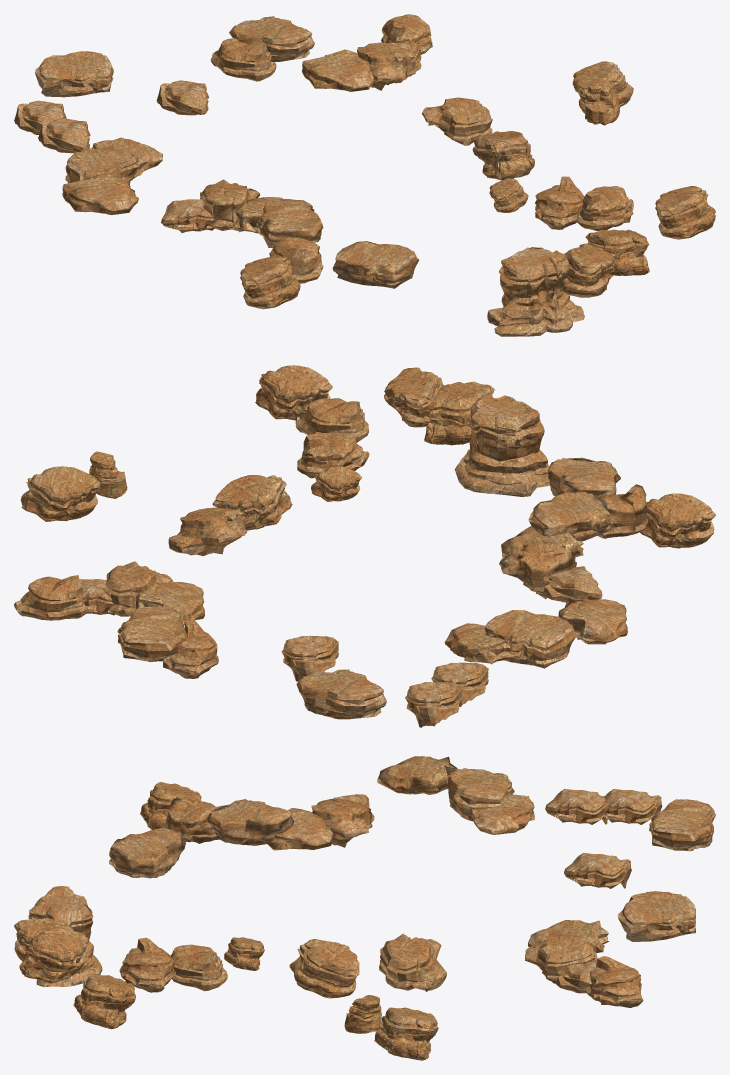
File: shan1.fbx
3 views of the same model, one above another, from view 1: azimuth 30°, elevation 25°; view 2: azimuth 150°, elevation 25°; view 3: azimuth 270°, elevation 25° (orthographic). The views are drawn at different scales.
Parts seen in each view (by area): view 1: shamo:_71, polySurface1, shamo:obj_____100, shamo:_52, shamo:_76, shamo:obj_____105, shamo:obj_____118, shamo:_48, shamo:obj_____84, shamo:obj_____106, qunshan1:obj_____107, shamo:_56 (+18 smaller); view 2: shamo:_71, shamo:obj_____95, shamo:obj_____100, shamo:_40, shamo:_76, shamo:obj_____105, shamo:obj_____84, shamo:_52, shamo:_48, shamo:_56, qunshan1:obj_____107, shamo:obj_____103 (+19 smaller); view 3: shamo:_48, shamo:obj_____105, qunshan1:obj_____107, shamo:obj_____84, polySurface1, shamo:obj_____100, shamo:_63, shamo:_71, shamo:_40, shamo:_52, shamo:obj_____95, shamo:obj_____118 (+17 smaller).
Boxes of the visible parts, box(x1,y1,x2,y2) form: shamo:_71: box(487, 247, 584, 336); polySurface1: box(332, 241, 418, 288); shamo:obj_____100: box(35, 51, 113, 97); shamo:_52: box(655, 186, 715, 239); shamo:_76: box(240, 255, 300, 309); shamo:obj_____105: box(229, 16, 314, 61); shamo:obj_____118: box(62, 172, 138, 214); shamo:_48: box(472, 131, 534, 180); shamo:obj_____84: box(256, 199, 323, 247); shamo:obj_____106: box(302, 49, 375, 91); qunshan1:obj_____107: box(422, 97, 492, 145); shamo:_56: box(562, 243, 617, 297); shamo:_71: box(455, 395, 550, 496); shamo:obj_____95: box(484, 610, 576, 668); shamo:obj_____100: box(296, 669, 386, 719); shamo:_40: box(20, 466, 100, 521); shamo:_76: box(640, 493, 715, 548); shamo:obj_____105: box(117, 606, 186, 661); shamo:obj_____84: box(528, 492, 611, 541); shamo:_52: box(255, 365, 332, 420); shamo:_48: box(212, 475, 292, 530); shamo:_56: box(424, 381, 494, 445); qunshan1:obj_____107: box(168, 507, 247, 555); shamo:obj_____103: box(14, 575, 88, 620); shamo:_48: box(289, 939, 359, 998); shamo:obj_____105: box(617, 893, 695, 941); qunshan1:obj_____107: box(379, 933, 446, 991); shamo:obj_____84: box(205, 799, 294, 845); polySurface1: box(109, 828, 185, 878); shamo:obj_____100: box(649, 799, 715, 851); shamo:_63: box(19, 928, 88, 983); shamo:_71: box(21, 886, 102, 987); shamo:_40: box(374, 1007, 438, 1060); shamo:_52: box(73, 973, 135, 1029); shamo:obj_____95: box(447, 768, 514, 820); shamo:obj_____118: box(377, 756, 457, 794).
Bounding box in the file's own units: 7171 × 989 × 7678.
